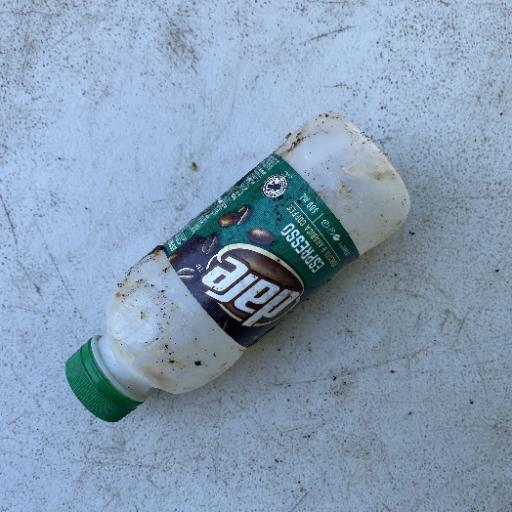Plastic: (62, 109, 412, 424)
